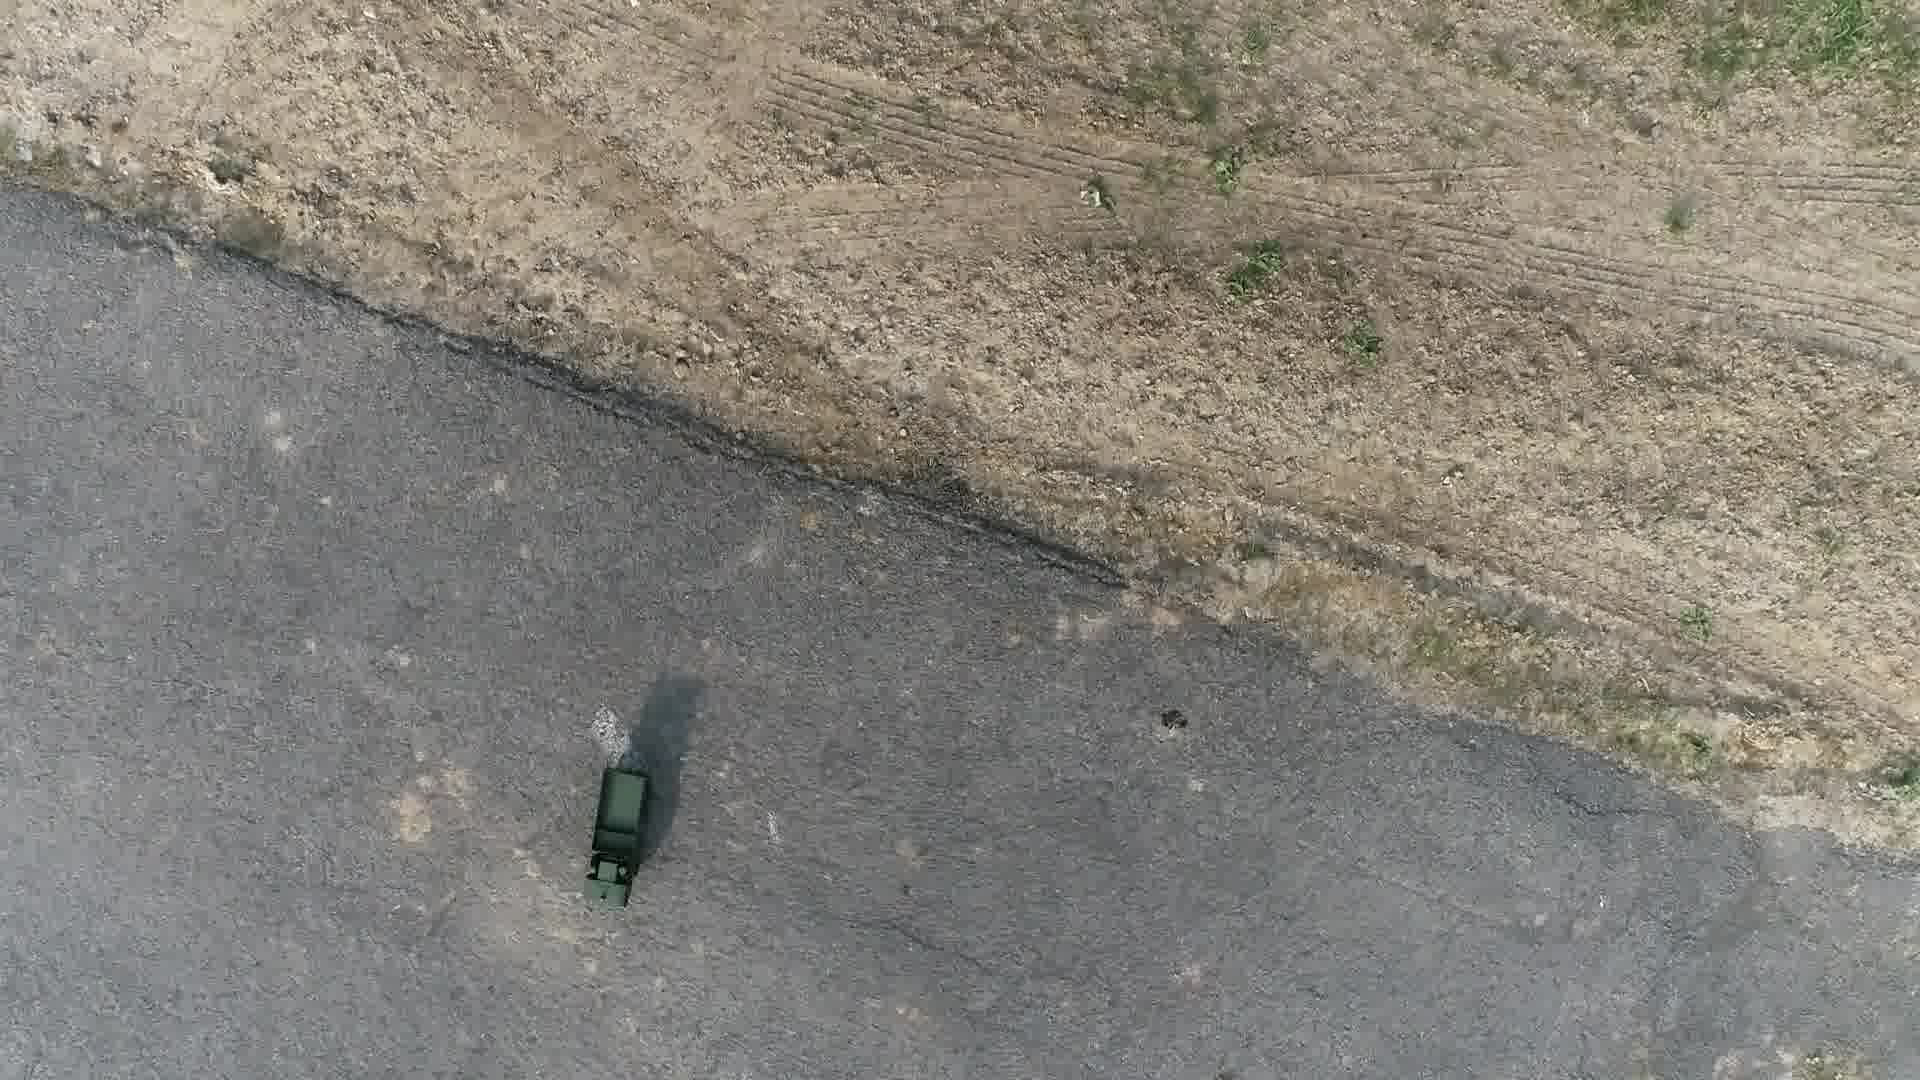transporter9: (576, 762, 655, 911)
